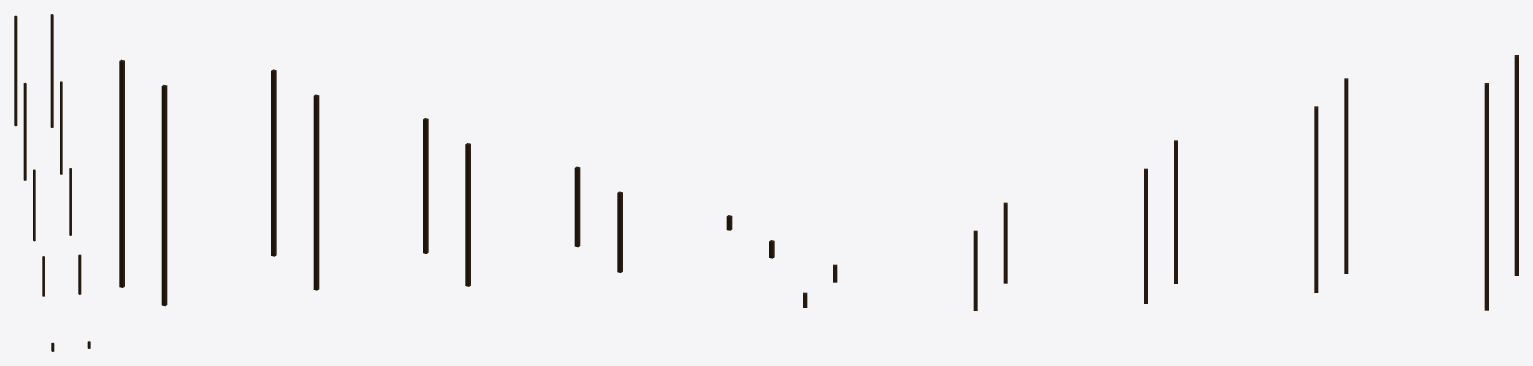
The picture shows the model from 3 angles, left to right: view 1: azimuth 30°, elevation 25°; view 2: azimuth 150°, elevation 25°; view 3: azimuth 270°, elevation 25°; orthographic projection. The views are drawn at different scales.
Parts seen in each view (by area): view 1: prototype; view 2: prototype; view 3: prototype.
Boxes of the visible parts, bbox=[...] form: prototype: bbox=[14, 14, 90, 351]; prototype: bbox=[119, 59, 774, 306]; prototype: bbox=[803, 55, 1518, 310].
Size of the model in its own units: 19.74 by 20.49 by 37.33.
